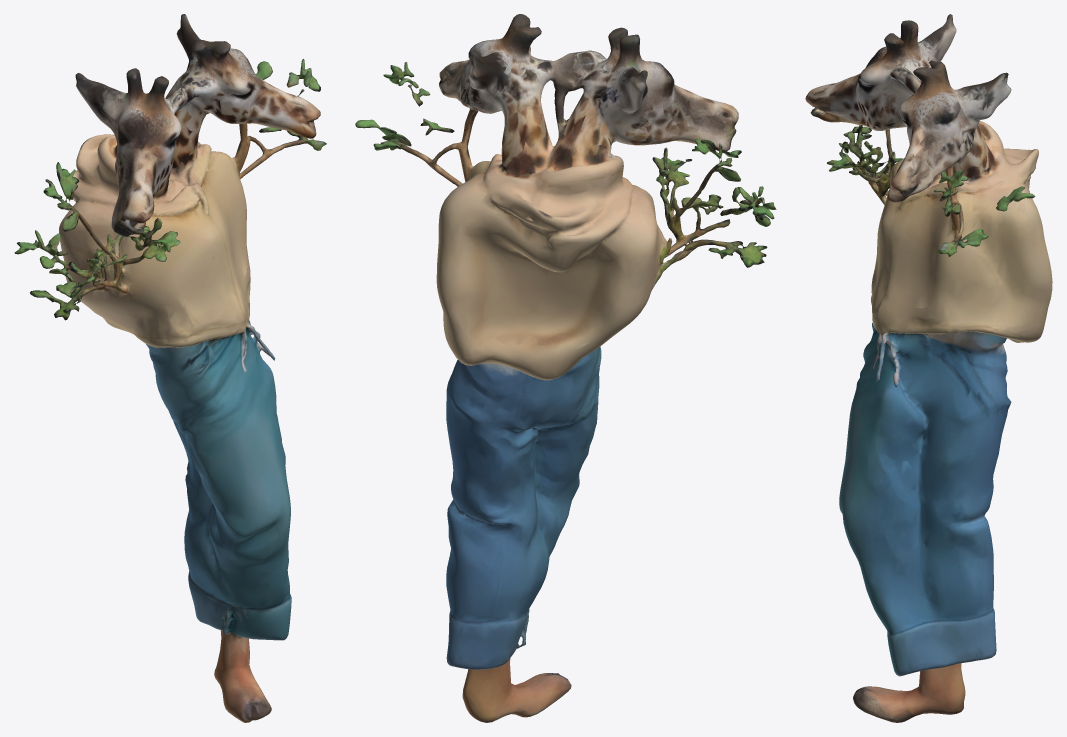
File: Chimera.glb
The picture shows the model from 3 angles, left to right: view 1: azimuth 30°, elevation 25°; view 2: azimuth 150°, elevation 25°; view 3: azimuth 270°, elevation 25°; orthographic projection. The views are drawn at different scales.
Parts seen in each view (by area): view 1: Mesh_0; view 2: Mesh_0; view 3: Mesh_0.
Boxes of the visible parts, left/top/right/bottom form: Mesh_0: left=14, top=14, right=326, bottom=722; Mesh_0: left=355, top=14, right=776, bottom=722; Mesh_0: left=805, top=14, right=1052, bottom=722.
Size of the model in its own units: 2.5 by 4.71 by 1.63.
Materials: 1 (1 with a texture image).
